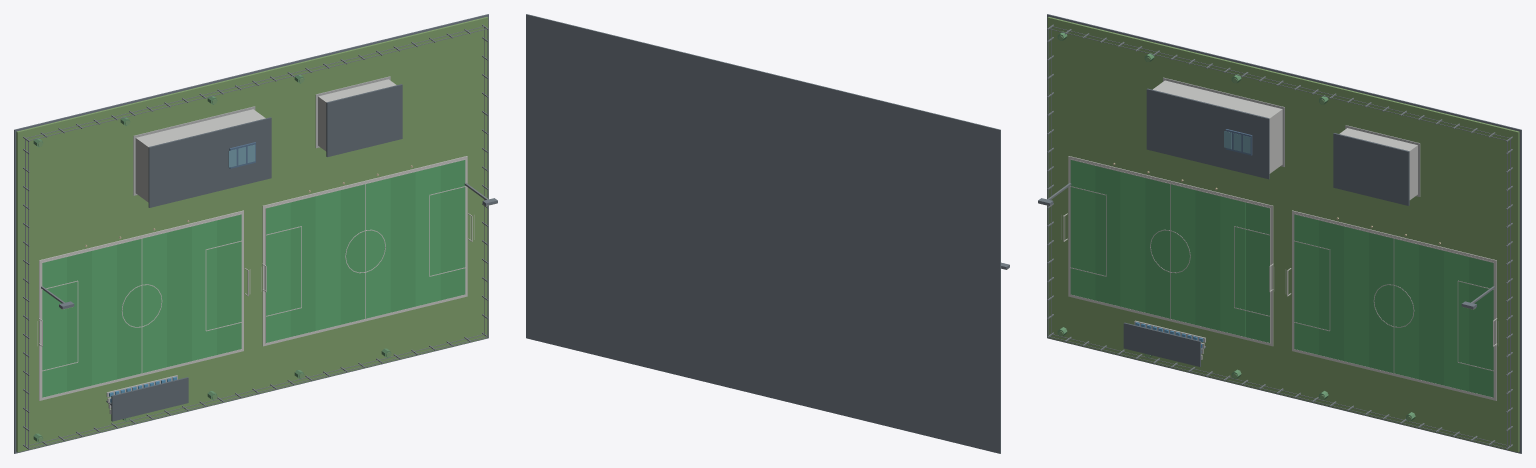
File: youth_academy_level_2.glb
3 views of the same model, side by side, from view 1: azimuth 30°, elevation 25°; view 2: azimuth 150°, elevation 25°; view 3: azimuth 330°, elevation 25° (orthographic).
Parts seen in each view (by area): view 1: grass, pitch, stripe, roof, white, fence, trim, wall, concrete; view 2: trim; view 3: grass, stripe, pitch, roof, white, fence, trim, wall, concrete.
Part boxes in pixels (<box>): grass: <box>16,17,488,452</box>; pitch: <box>67,160,465,391</box>; stripe: <box>42,166,440,397</box>; roof: <box>111,84,402,421</box>; white: <box>37,156,474,400</box>; fence: <box>23,24,488,449</box>; trim: <box>14,14,497,453</box>; wall: <box>135,79,396,202</box>; concrete: <box>106,76,390,414</box>; trim: <box>526,14,1009,453</box>; grass: <box>1047,17,1519,452</box>; stripe: <box>1070,160,1468,391</box>; pitch: <box>1095,166,1493,397</box>; roof: <box>1123,88,1409,366</box>; white: <box>1061,156,1498,400</box>; fence: <box>1047,24,1512,449</box>; trim: <box>1038,14,1521,453</box>; wall: <box>1153,80,1417,199</box>; concrete: <box>1134,77,1420,359</box>.
Size of the model in its own units: 80.6 by 52.6 by 8.54.
